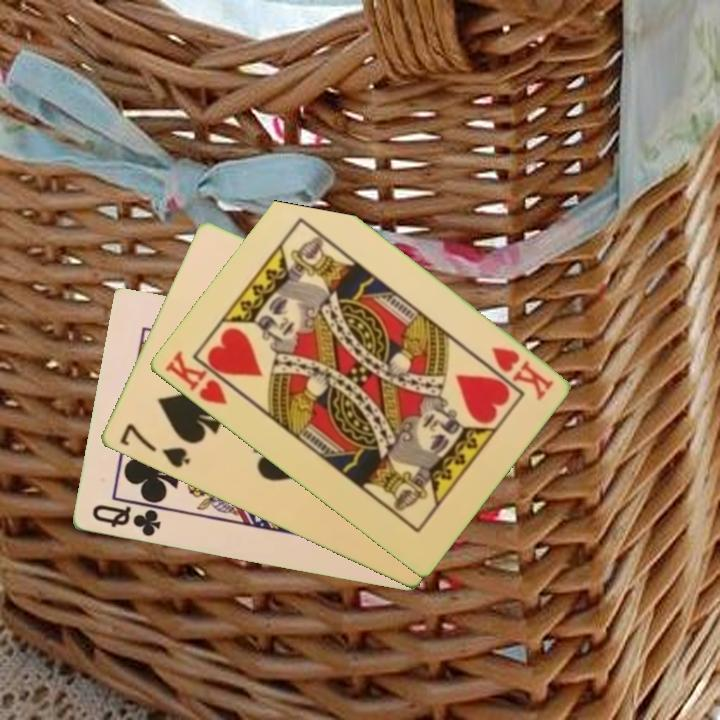7s: (115, 420, 193, 472)
Kh: (161, 347, 242, 408), (487, 343, 556, 404)
Qc: (88, 501, 163, 540)
